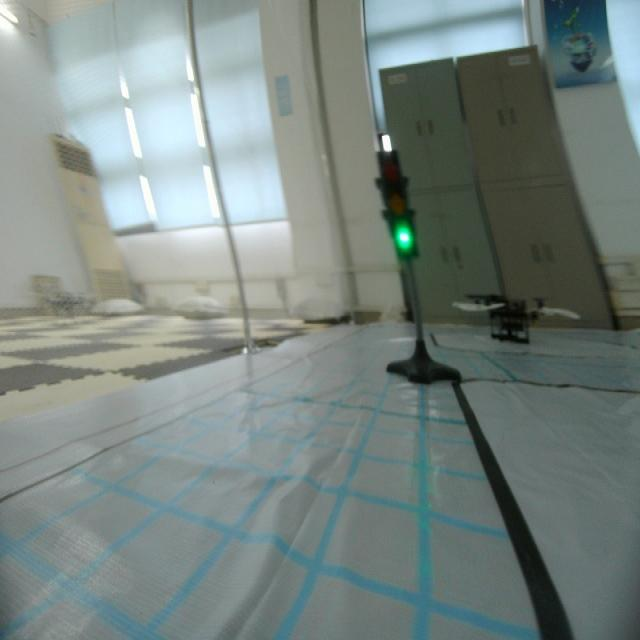green: (372, 147, 422, 264)
